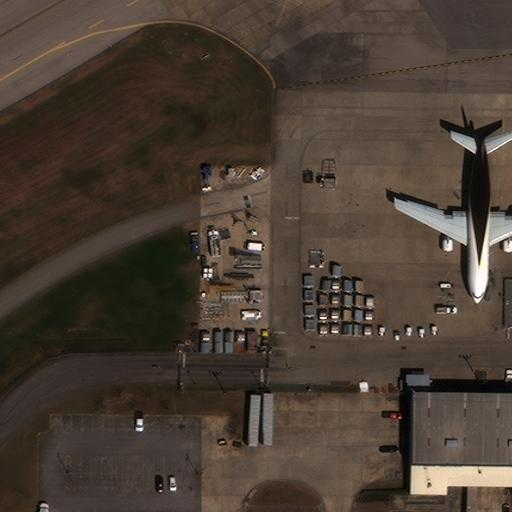Large Civil Transport: (394, 128, 512, 303)
